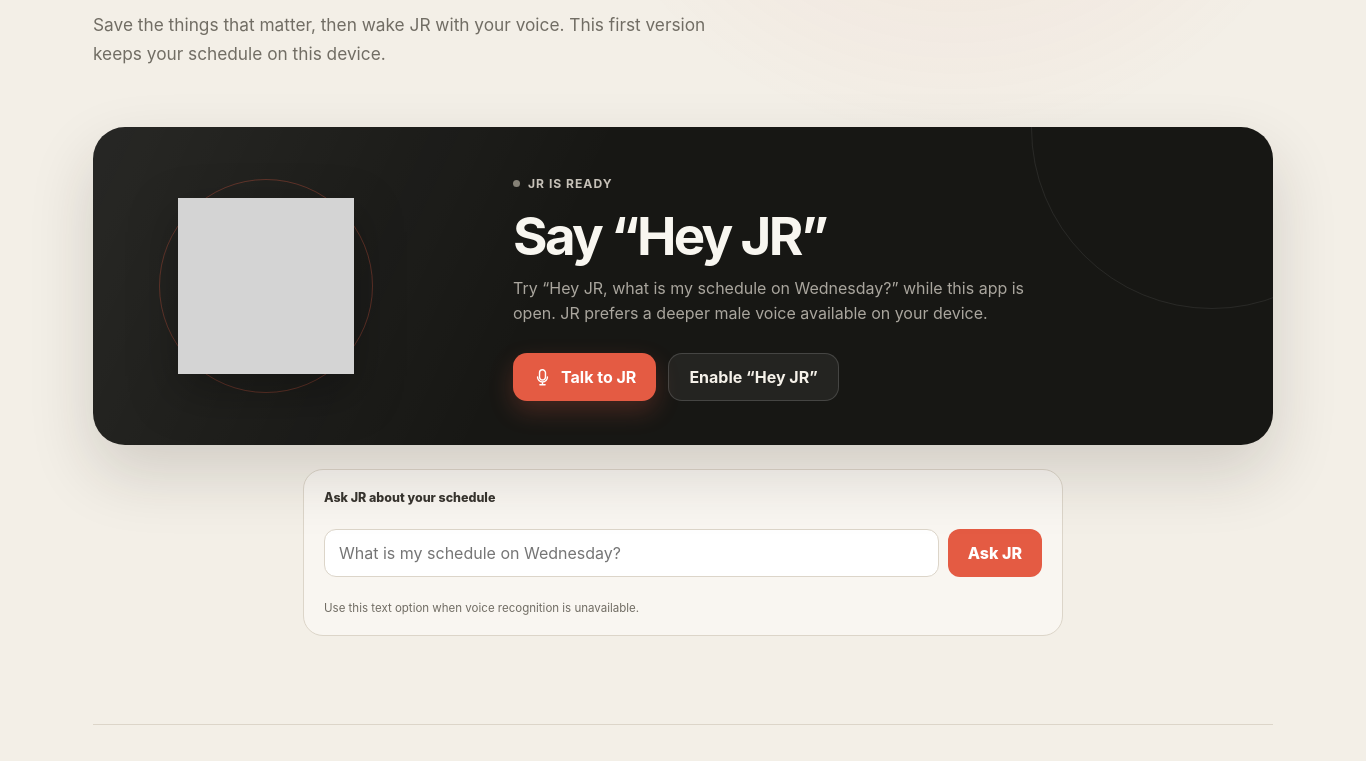
JR schedule MVP › opens and speaks exactly once after hearing Hey JR
(page scrolled)
Click the button "Enable “Hey JR”" at (754, 377), box [668,353,839,401]
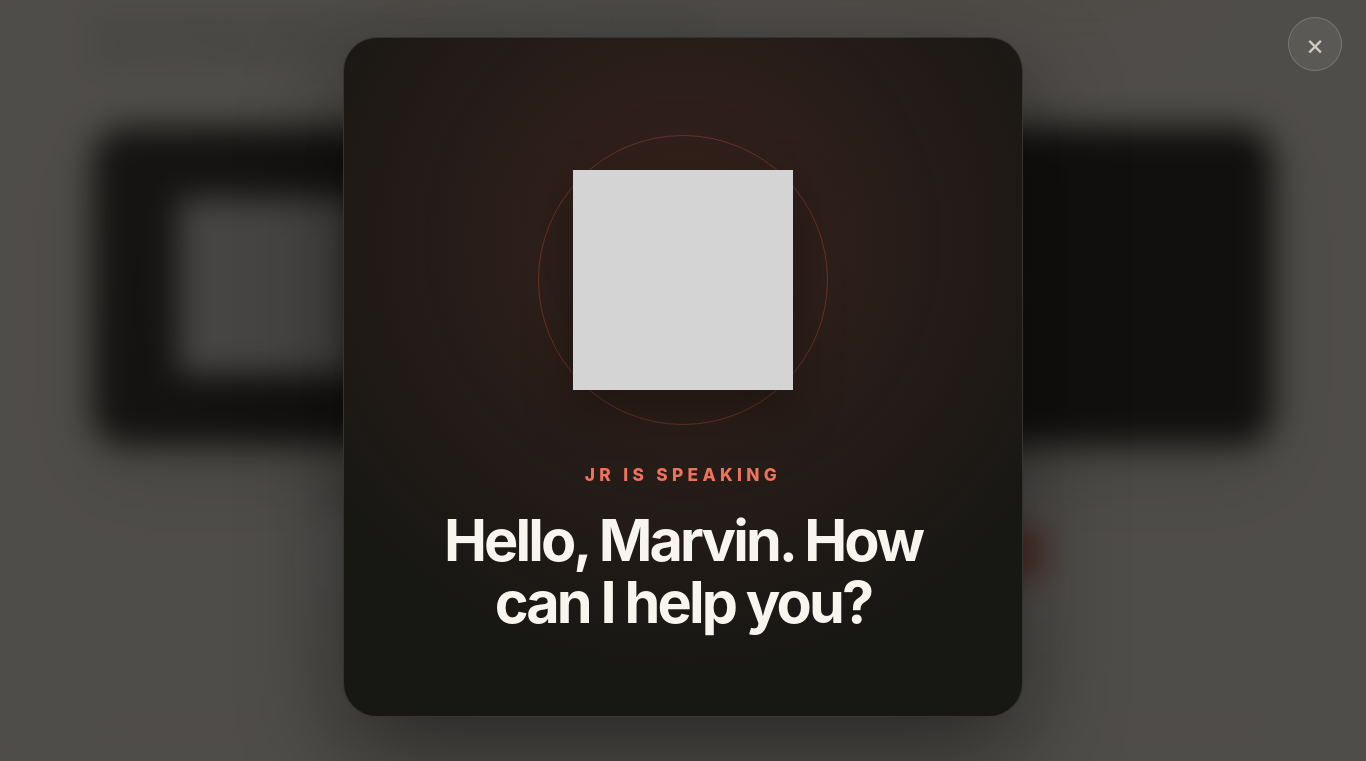
Check: the dialog named "JR voice assistant" is shown, box [343,37,1023,717]
